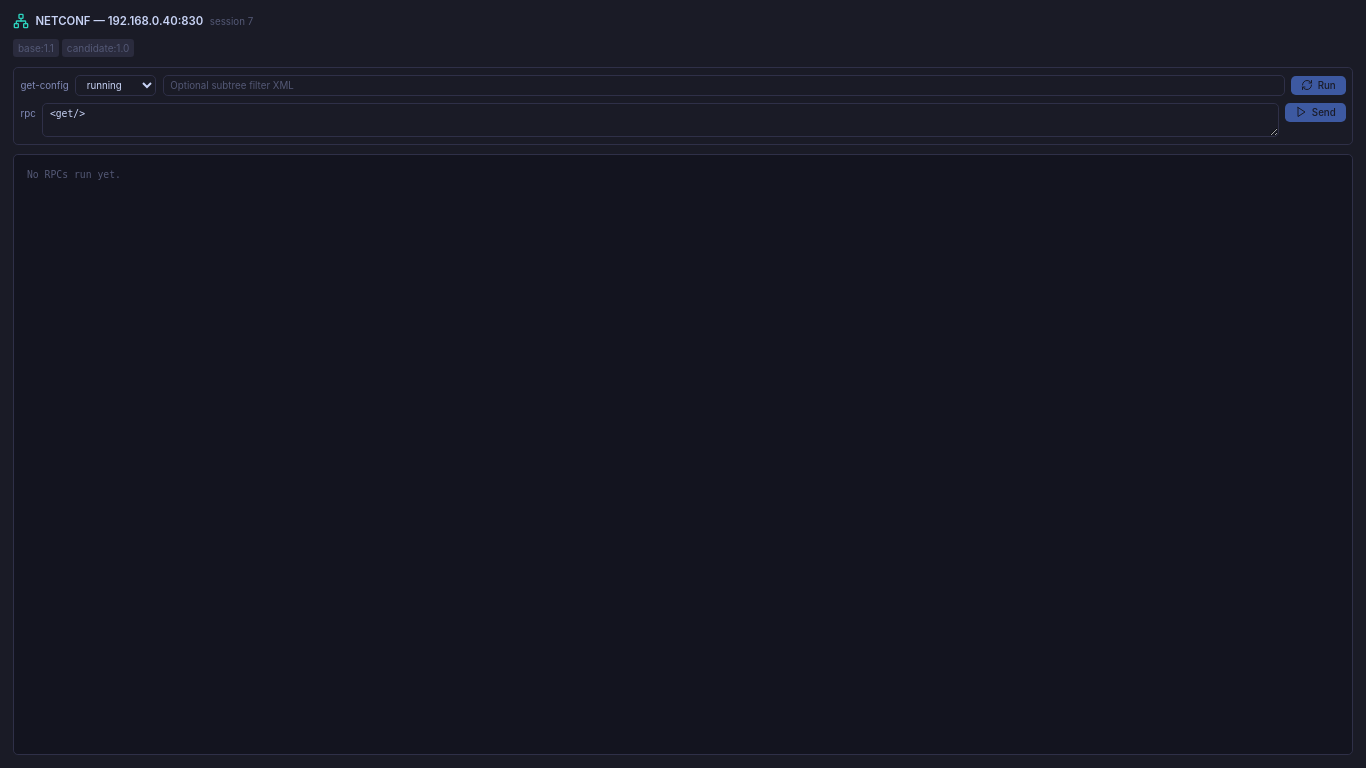
Test case: NetconfConsole › runs get-config against the selected datastore and logs the result
Expected: the text "session 7" is shown, [210,15,253,28]
Step 1. Click the button "Run" → (1318, 85), box [1291,76,1346,95]
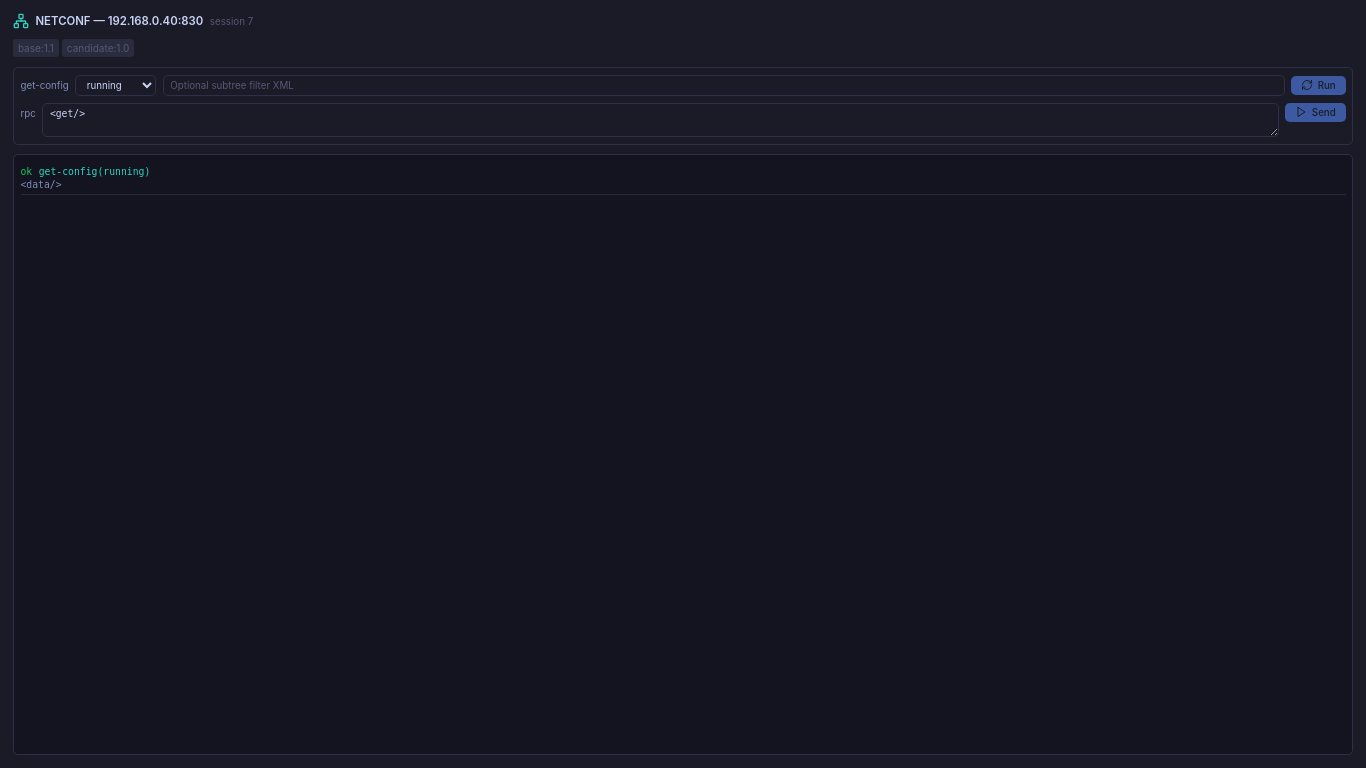
Result: the text "get-config(running)" is shown at [39,165,150,178]
Result: the text "<data/>" is shown at [20,179,62,190]
